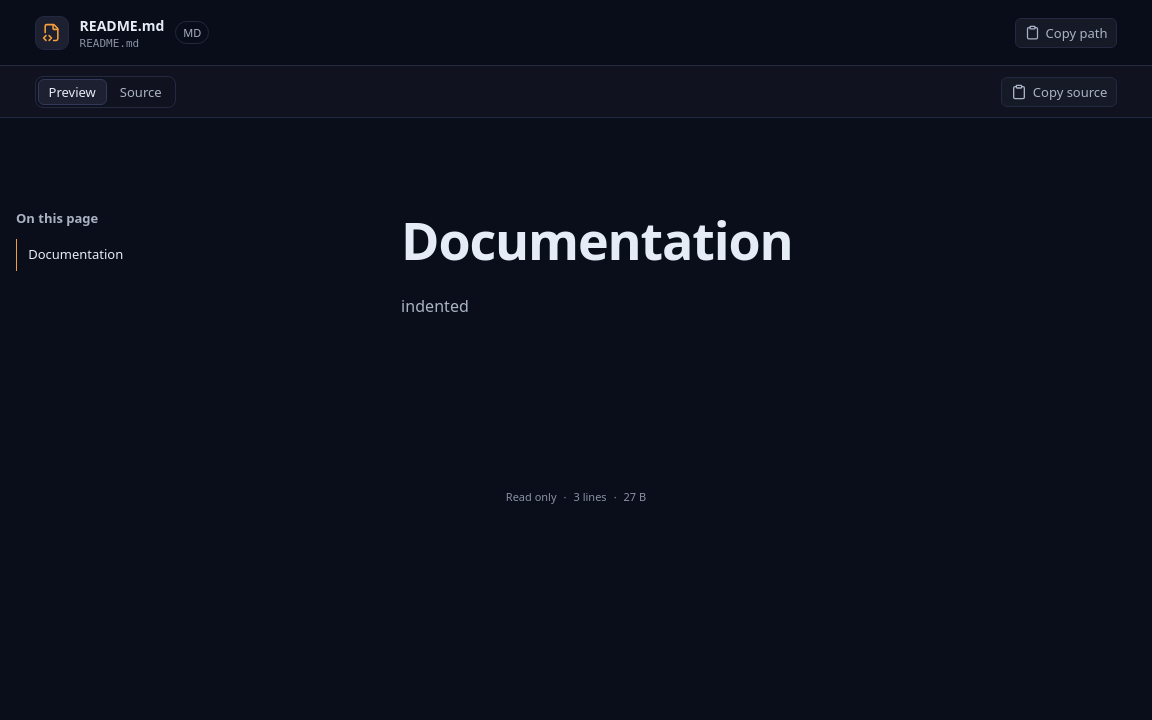
Test: file link viewer › copies exact source and reports clipboard failures
Expected: the heading "Documentation" is shown, [401,204,792,275]
Click the button "Copy source" at (1059, 92), box [1001,76,1117,106]
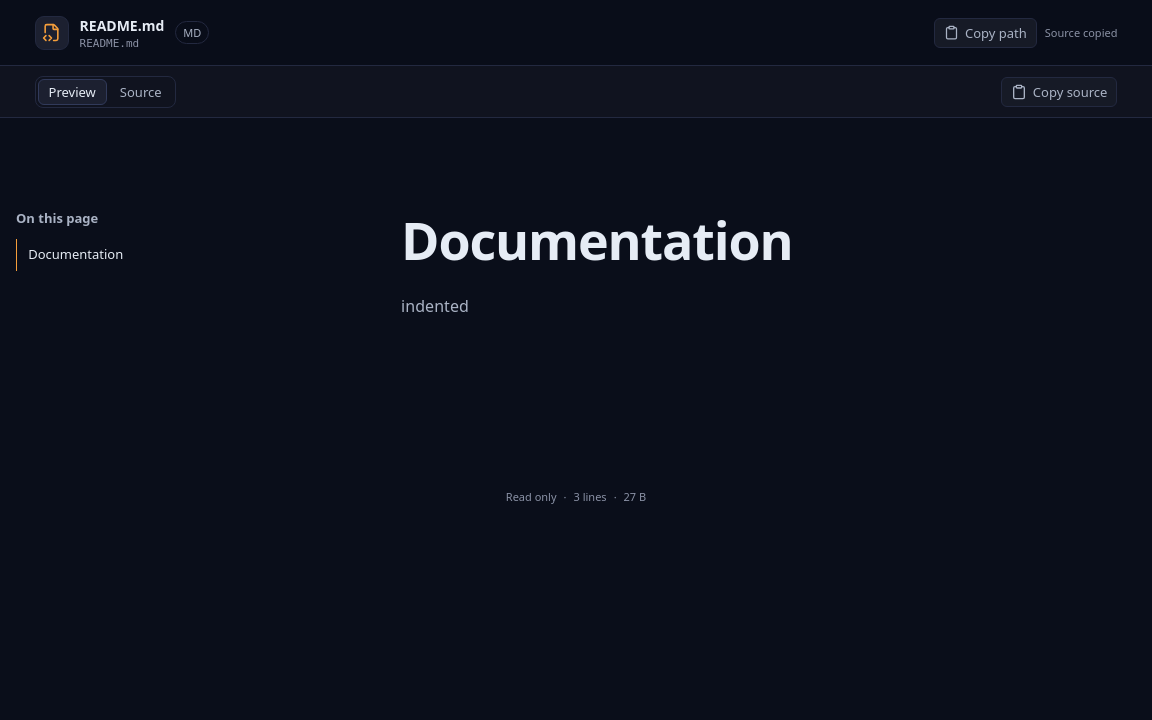
Result: the message reads "Source copied" at [1045,25,1118,40]
Click the button "Copy path" at (985, 32), box [934,18,1037,48]
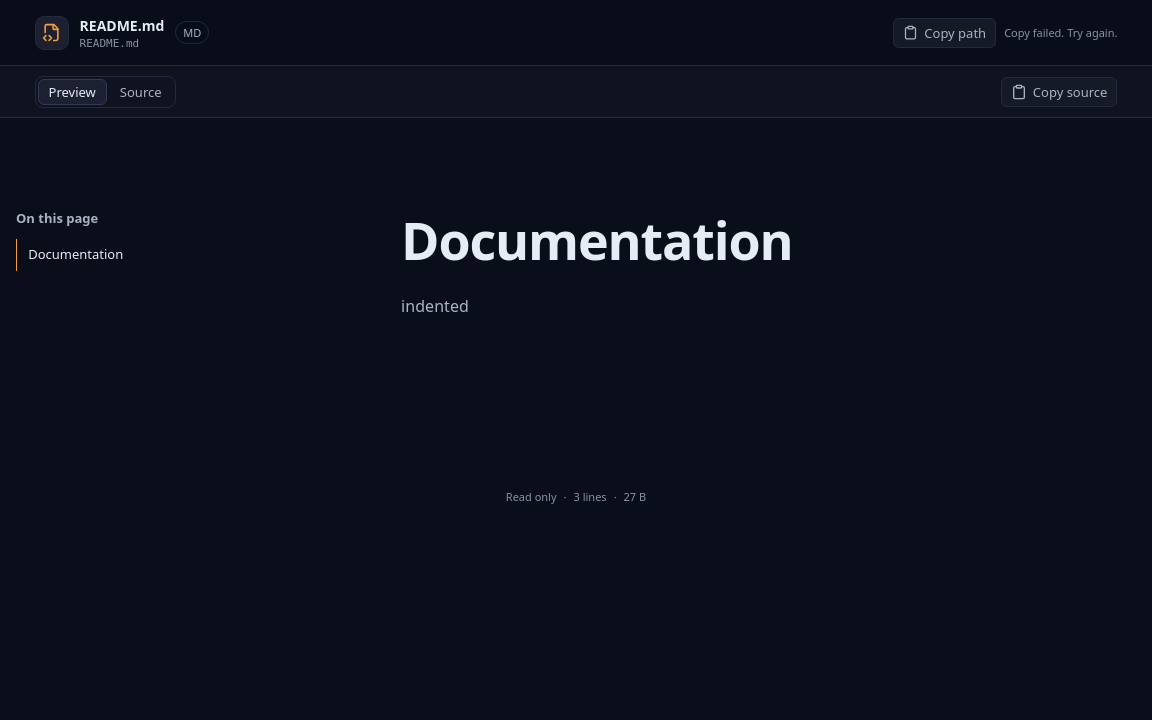
Result: the message shows "Copy failed" at [1004,25,1117,40]
